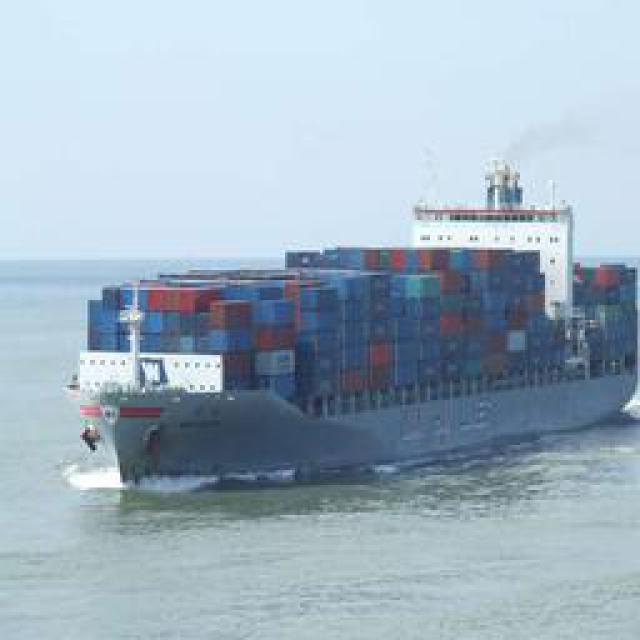Ship: (67, 181, 627, 499)
